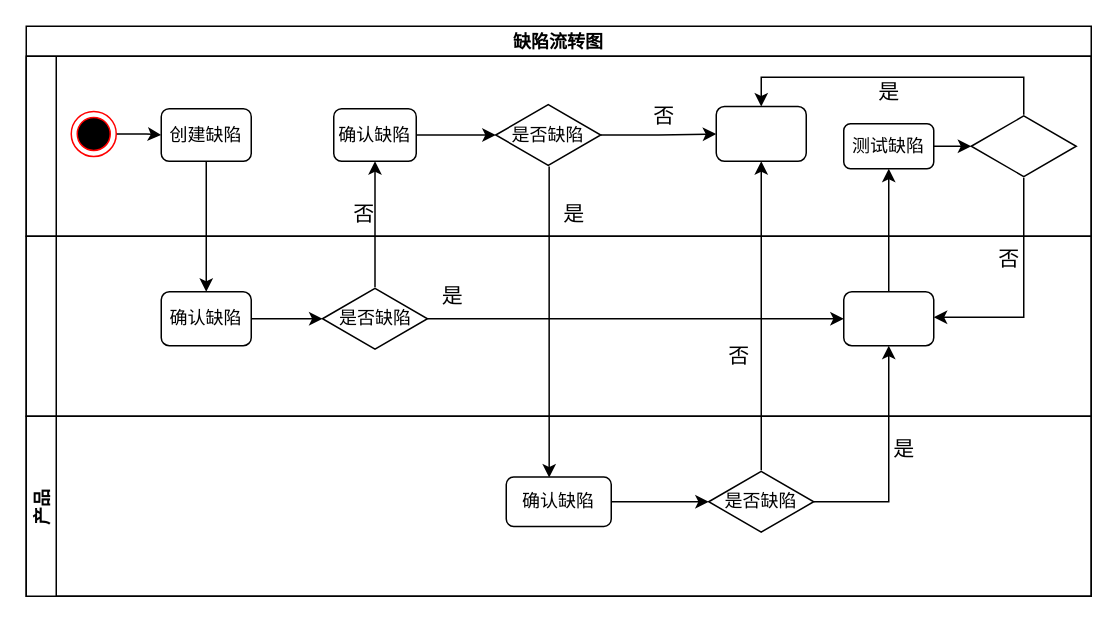
Some shapes in this 1118 by 623 pixel diagram are drawn without their labels. Here are the shapes that lost their labels. From the top down, the box of each, then its label:
(25, 55, 1091, 236): 测试
(715, 105, 806, 161): 关闭缺陷
(970, 113, 1076, 178): 是否修复
(25, 235, 1091, 416): 开发
(842, 290, 934, 346): 修复缺陷
